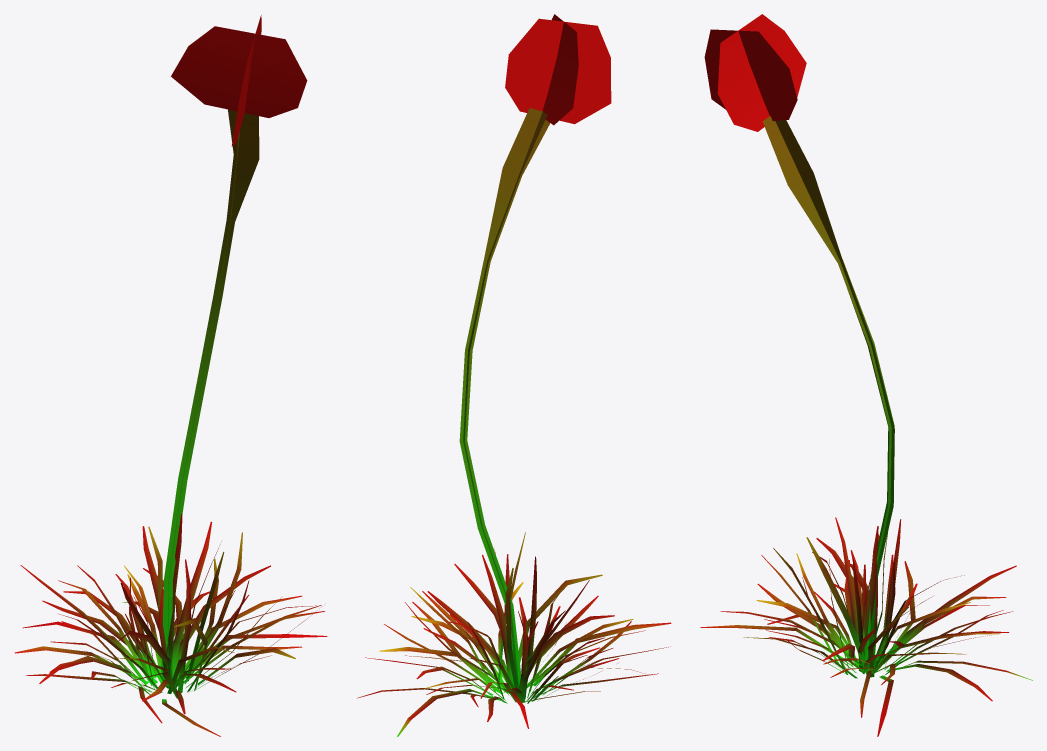
The model's file is Var10_LOD2.fbx.
The picture shows the model from 3 angles, left to right: view 1: azimuth 30°, elevation 25°; view 2: azimuth 150°, elevation 25°; view 3: azimuth 270°, elevation 25°; orthographic projection. The views are drawn at different scales.
Parts seen in each view (by area): view 1: _3xoa_Var10_LOD2; view 2: _3xoa_Var10_LOD2; view 3: _3xoa_Var10_LOD2.
Boxes of the visible parts, x1=… form: _3xoa_Var10_LOD2: x1=14, y1=15, x2=327, y2=736; _3xoa_Var10_LOD2: x1=357, y1=14, x2=671, y2=736; _3xoa_Var10_LOD2: x1=700, y1=14, x2=1032, y2=736.
Size of the model in its own units: 8.01 by 17.14 by 7.93.
